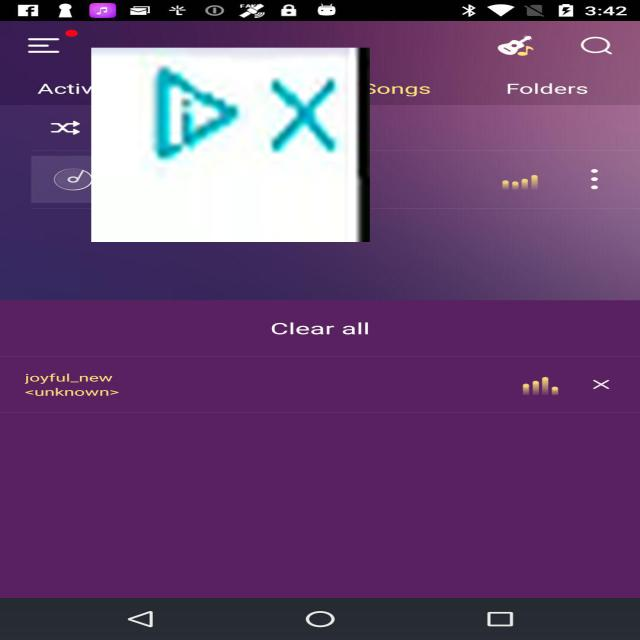sneaking: (91, 48, 370, 242)
